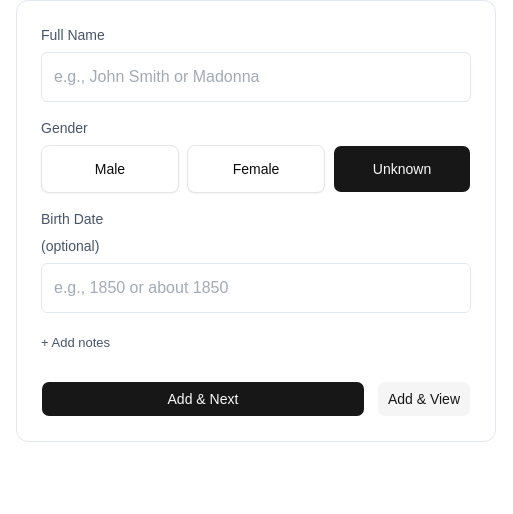
Scenario: QuickCapture dates (#996) › says nothing when the birth date was stored as typed
The width and height of the screenshot is (513, 514).
Type "Ada Lovelace" into the field labelled "Full Name" at (256, 77), box x1=41 y1=52 x2=471 y2=102
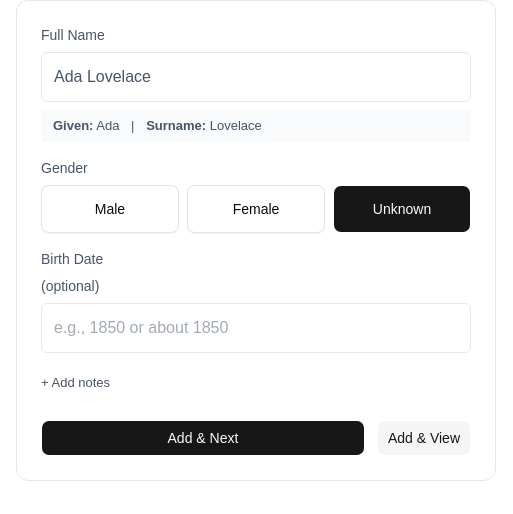
Type "1850" into the field labelled "Birth Date (optional)" at (256, 328), box x1=41 y1=302 x2=471 y2=352
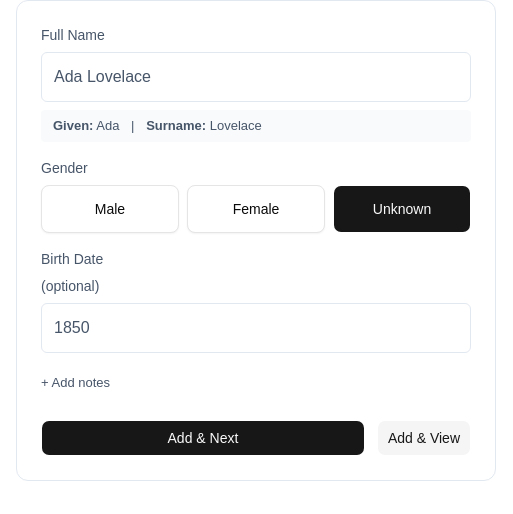
Click the button "Add & Next" at (203, 438), box x1=41 y1=420 x2=365 y2=456
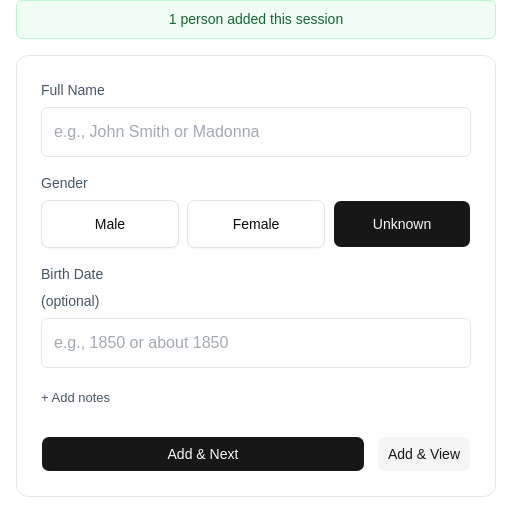
expect the text "1 person added this session" is shown: met, box x1=16 y1=0 x2=496 y2=39
